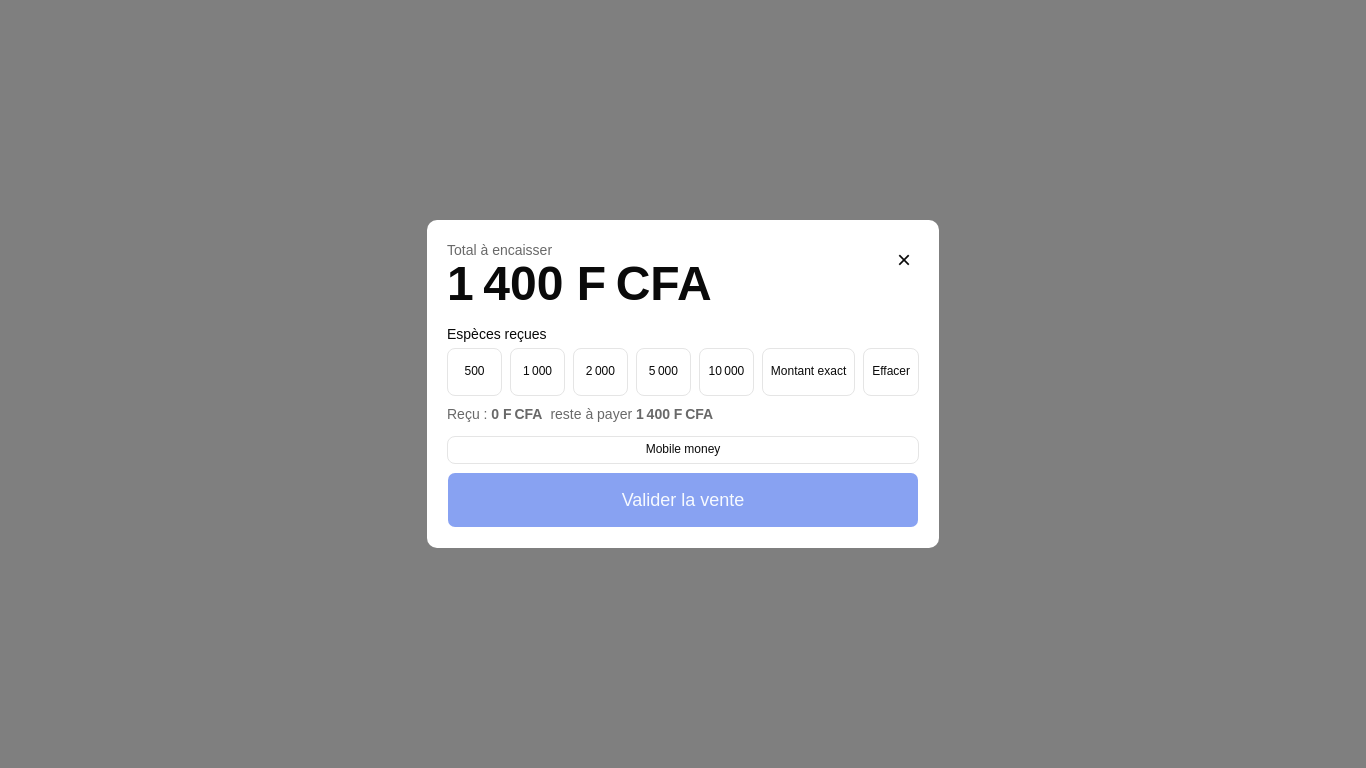
Test: ModalePaiement › les billets rapides s'ADDITIONNENT et la monnaie s'affiche dès que reçu ≥ dû
The image size is (1366, 768).
Click the button "1 000". click: point(538, 372)
box: [510, 348, 565, 396]
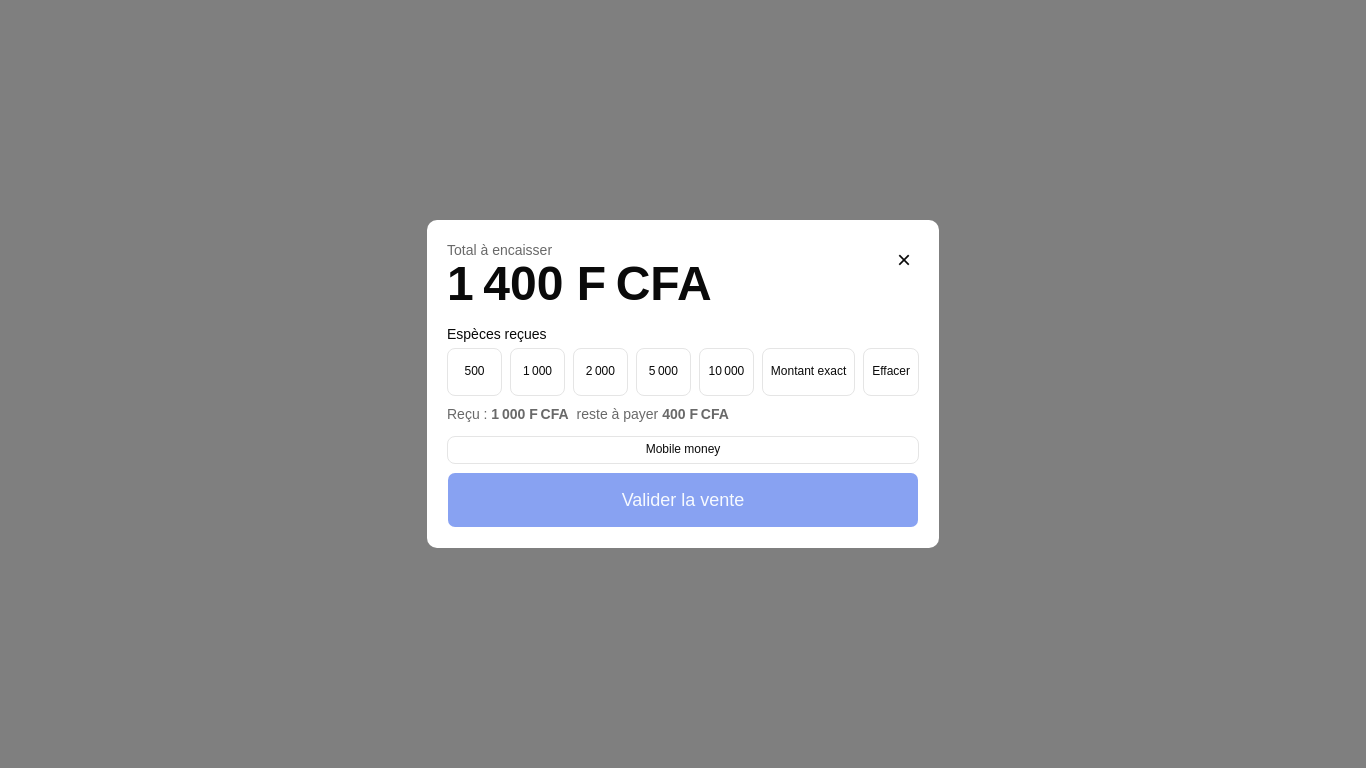
Click the button "1 000". click: point(538, 372)
box: [510, 348, 565, 396]
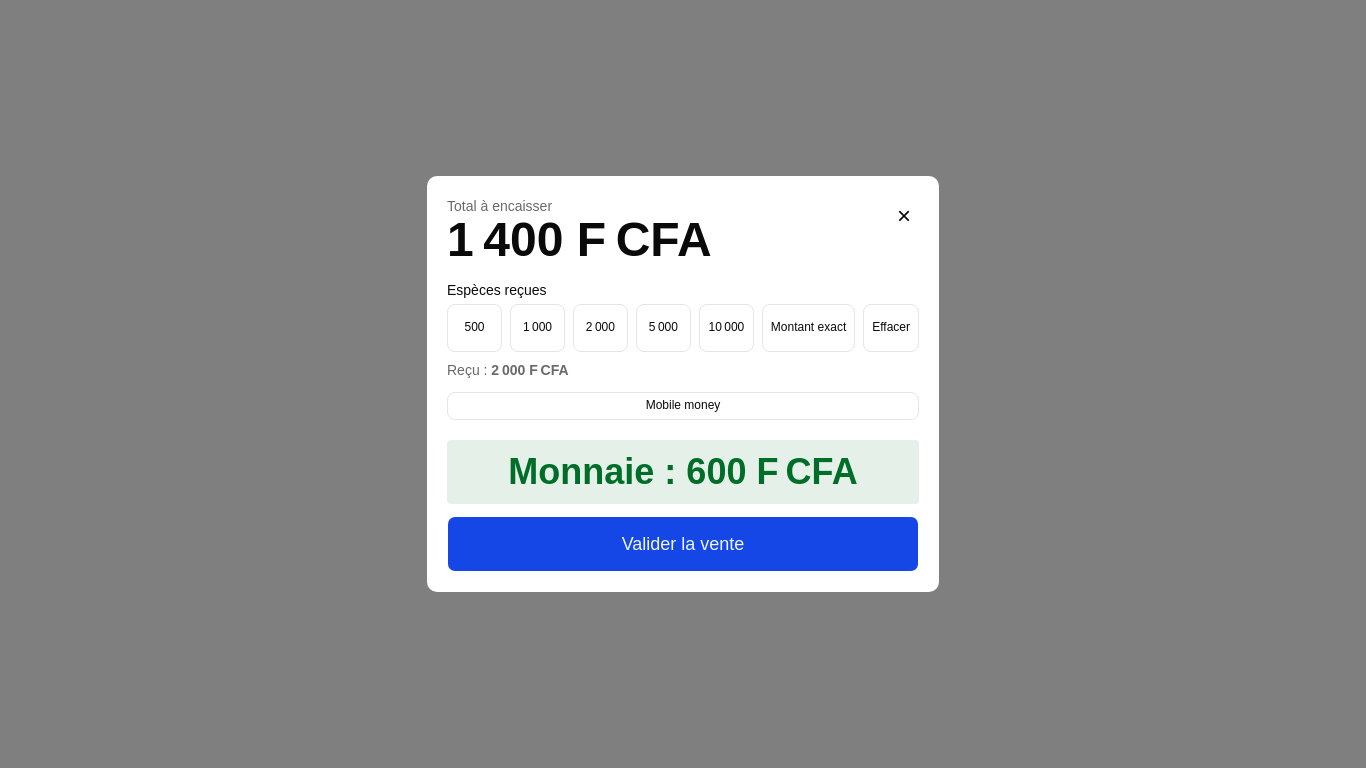
Expected: the text with test id "monnaie" shows "600", [686, 451, 858, 492]
